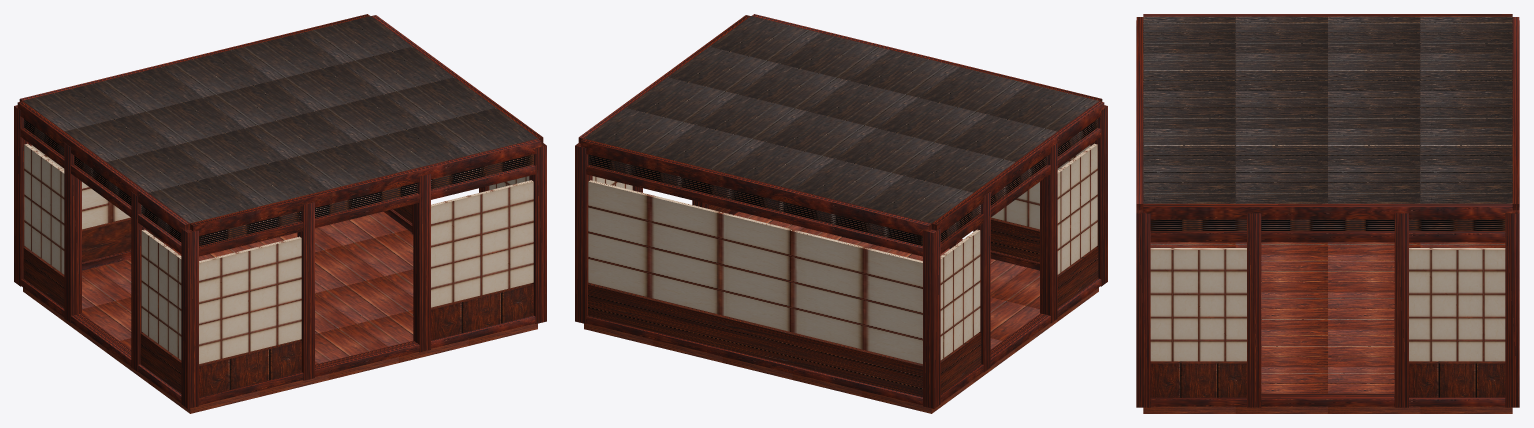
Rendered from CorrectedRoom_LOD3.fbx.
The picture shows the model from 3 angles, left to right: view 1: azimuth 30°, elevation 25°; view 2: azimuth 150°, elevation 25°; view 3: azimuth 270°, elevation 25°; orthographic projection. The views are drawn at different scales.
Parts seen in each view (by area): view 1: Retopo_CorrectedRoom_LOD3.001; view 2: Retopo_CorrectedRoom_LOD3.001; view 3: Retopo_CorrectedRoom_LOD3.001.
Part boxes in pixels (bbox=[...]): Retopo_CorrectedRoom_LOD3.001: bbox=[14, 14, 546, 413]; Retopo_CorrectedRoom_LOD3.001: bbox=[575, 14, 1107, 413]; Retopo_CorrectedRoom_LOD3.001: bbox=[1136, 14, 1519, 413].
Bounding box in the file's own units: 743 × 377 × 623.
